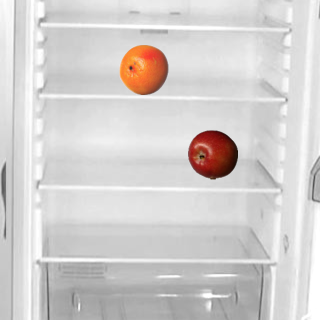Apple Braeburn: (187, 129, 237, 179)
Grapefruit Pink: (118, 44, 168, 94)
